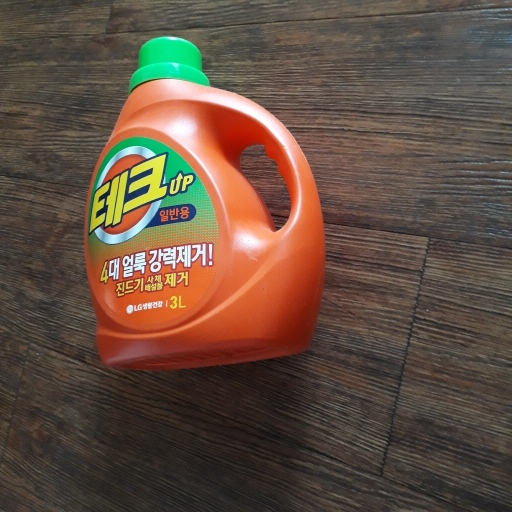Plastic_1: (82, 33, 325, 368)
